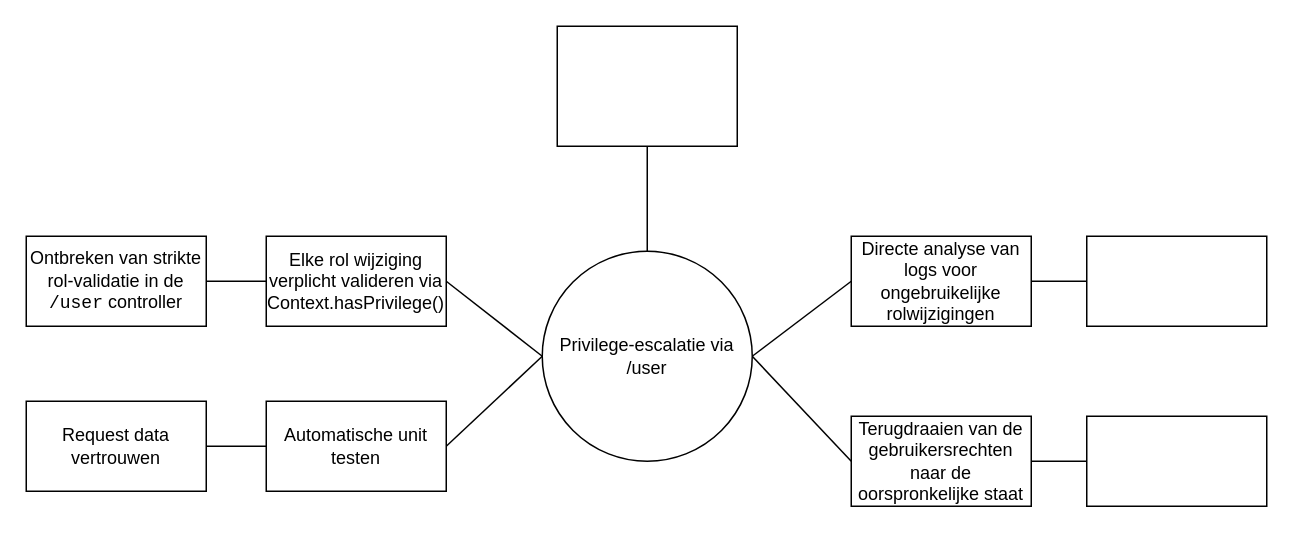
The diagram is 1293 pixels wide and 533 high, and some of its shapes have lost their labels. The centre of each missing label's shape, as x and y in pixels:
"Omzeiling van autorisatiecontroles" goes at point 1176,280.
"Onvolledige autorisatiechecks bij API-verzoeken die gebruikersgegevens aanpassen" goes at point 646,85.
"Volledige overname van het systeem door een reguliere gebruiker" goes at point 1176,460.
